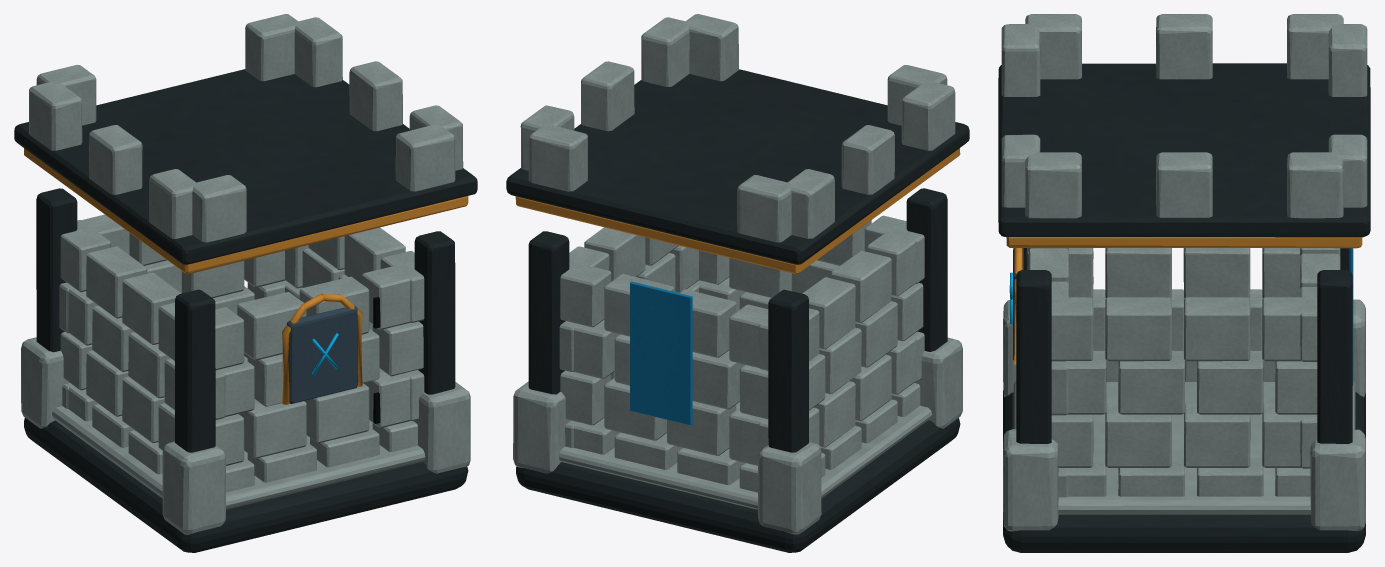
Rendered from SM_tower_guard_LOD2.fbx.
3 views of the same model, side by side, from view 1: azimuth 30°, elevation 25°; view 2: azimuth 150°, elevation 25°; view 3: azimuth 270°, elevation 25° (orthographic). The views are drawn at different scales.
Visible parts, largest first — view 1: SM_tower_guard_LOD2; view 2: SM_tower_guard_LOD2; view 3: SM_tower_guard_LOD2.
Part boxes in pixels (x1=…): SM_tower_guard_LOD2: x1=14, y1=14, x2=477, y2=552; SM_tower_guard_LOD2: x1=506, y1=14, x2=969, y2=552; SM_tower_guard_LOD2: x1=998, y1=14, x2=1370, y2=552.
Bounding box in the file's own units: 2.28 × 2.28 × 2.65.
